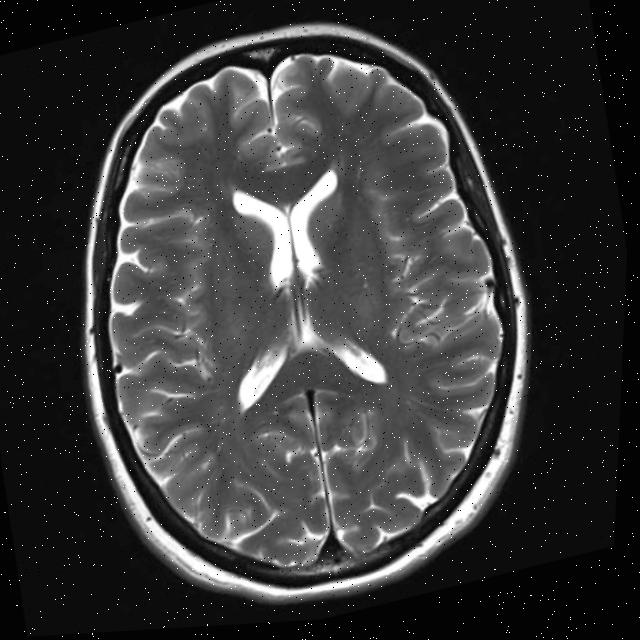NoTumor: (13, 0, 593, 638)
